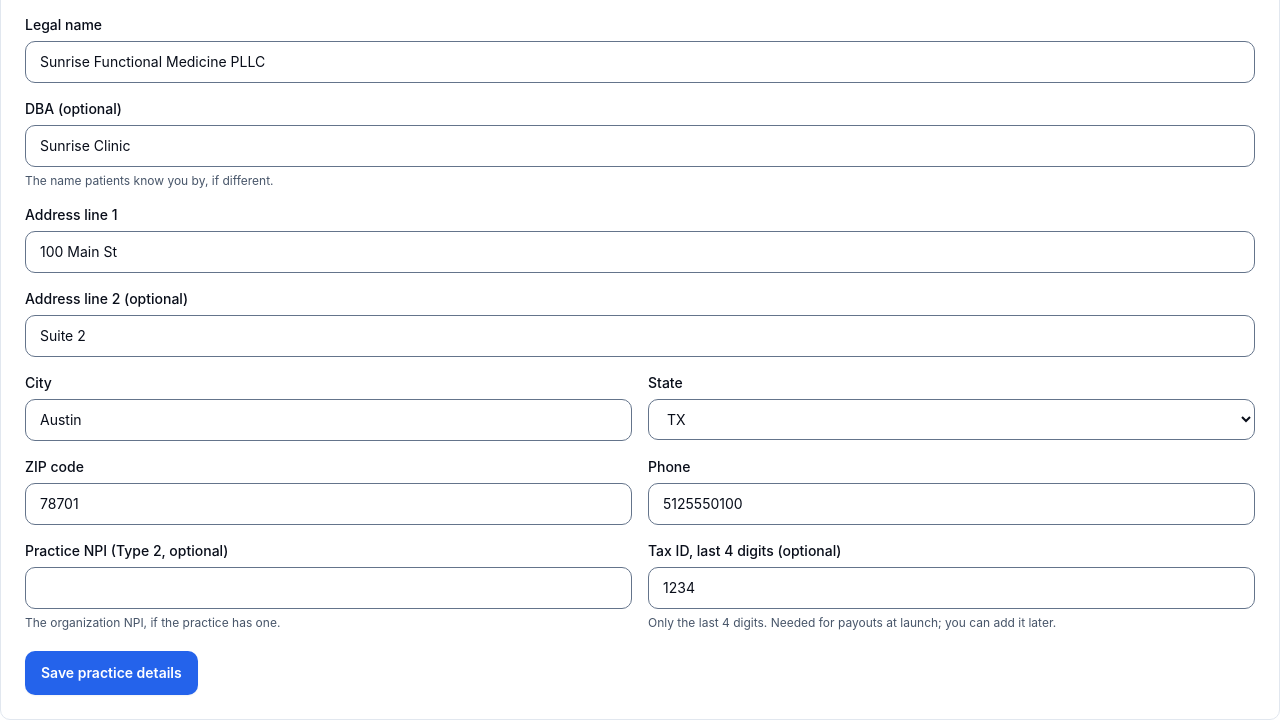
Test: field errors from the API show against their fields
(page scrolled)
Click the button "Save practice details" at (111, 673), box top-left (25, 651), bottom-right (198, 695)
(page scrolled)
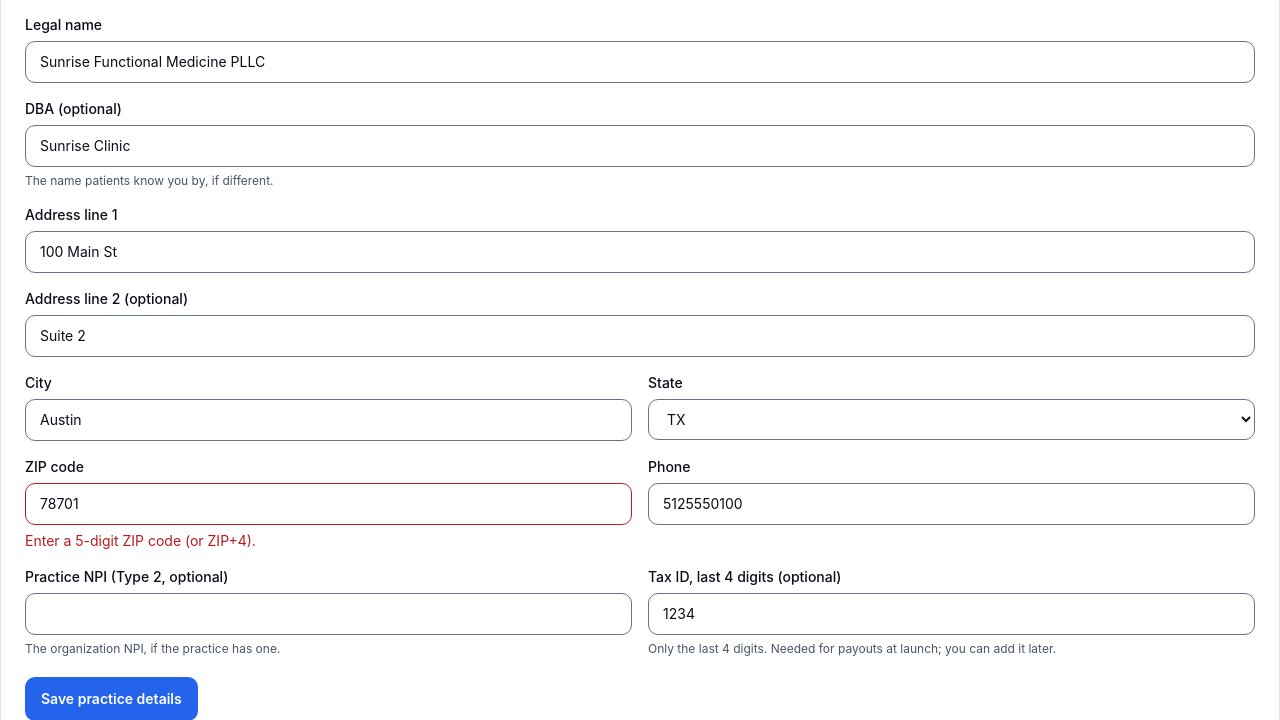
Result: the text "Enter a 5-digit ZIP code (or ZIP+4)." is shown at top-left (25, 532), bottom-right (256, 549)
